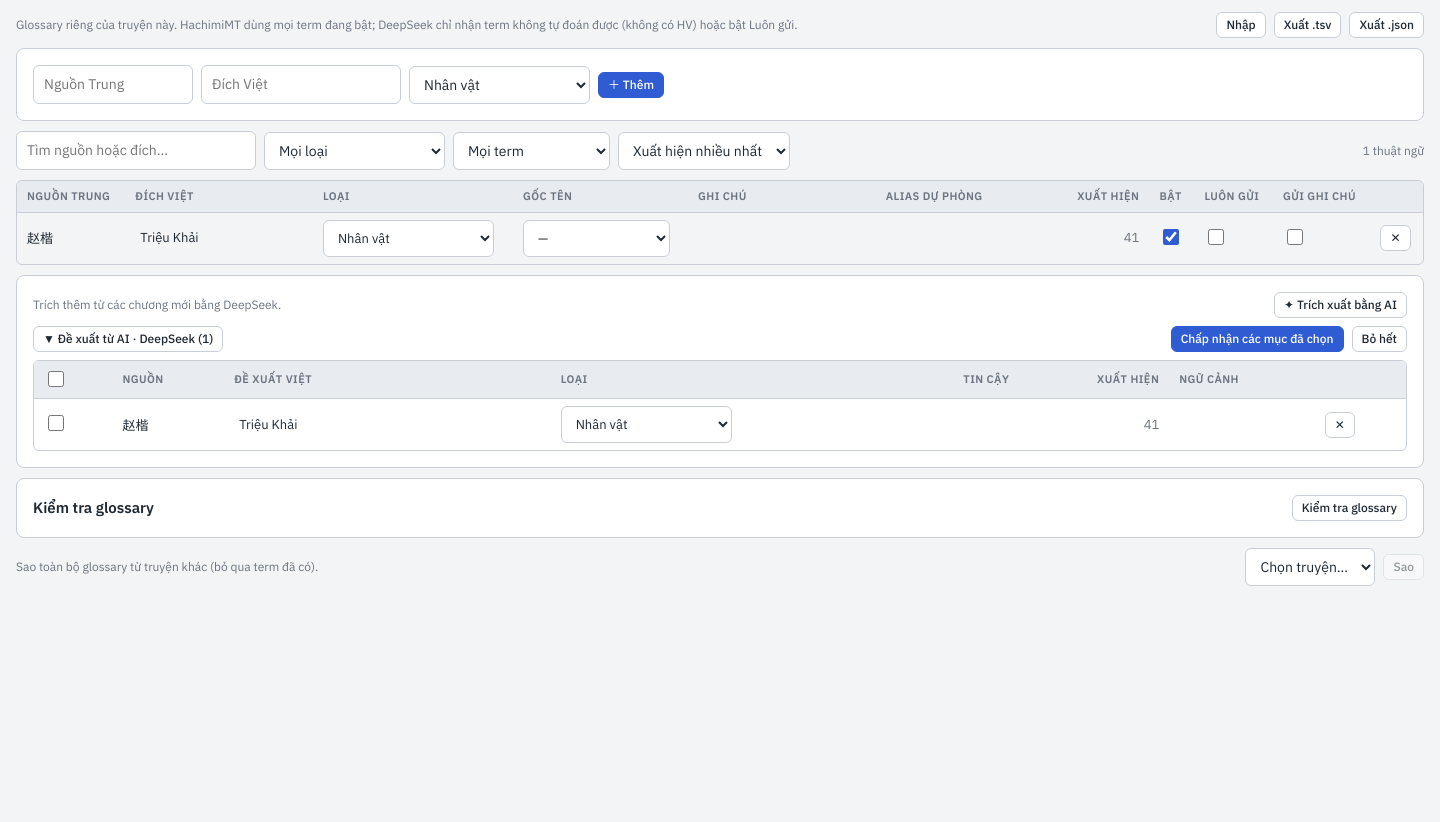
Scenario: sửa đích Việt có chương bị ảnh hưởng thì gợi ý dịch lại
The width and height of the screenshot is (1440, 822).
Replace the text in the field named "Đích Việt của 赵楷" with "Triệu Giai" at (219, 238), box [135, 225, 303, 251]
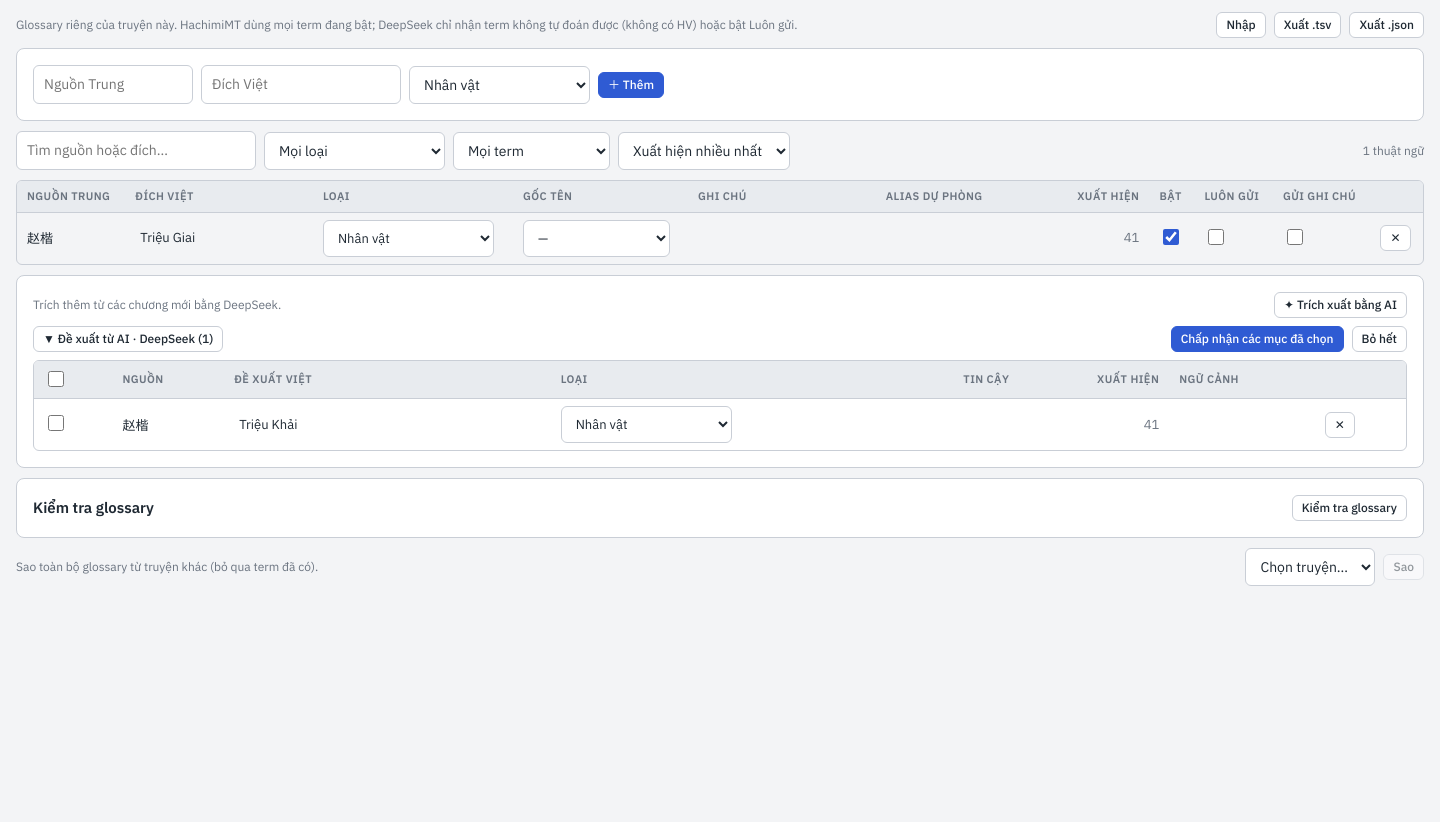
Leave the field named "Đích Việt của 赵楷", box [135, 225, 303, 251]
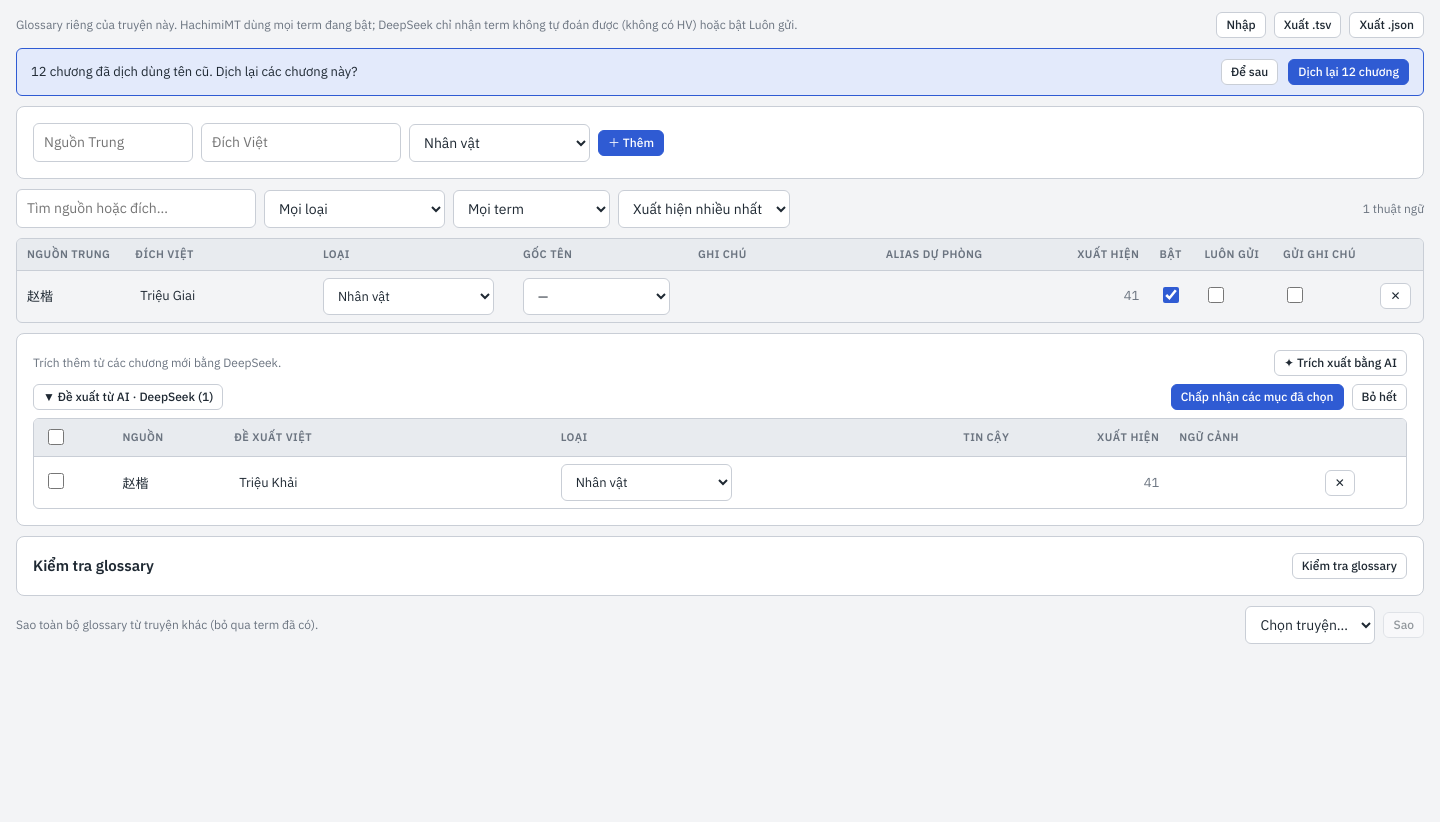
Now the text "12 chương đã dịch dùng tên cũ. Dịch lại các chương này?" is shown, box [31, 63, 358, 80]
Now the button "Dịch lại 12 chương" is shown, box [1288, 59, 1409, 85]
